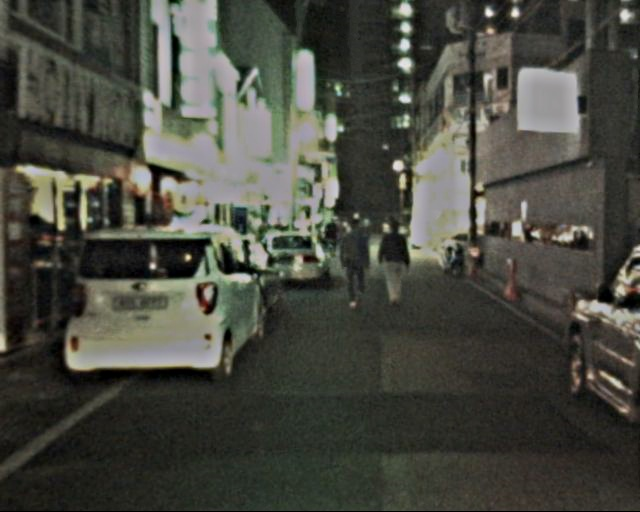person: (374, 216, 414, 306), (338, 219, 375, 309)
